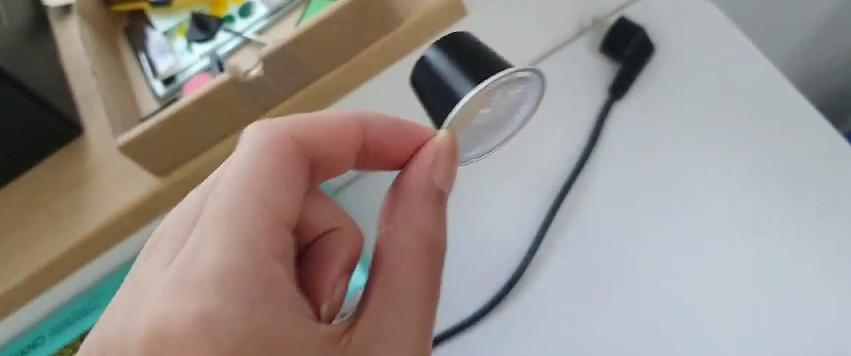capsule_10: (405, 31, 548, 163)
